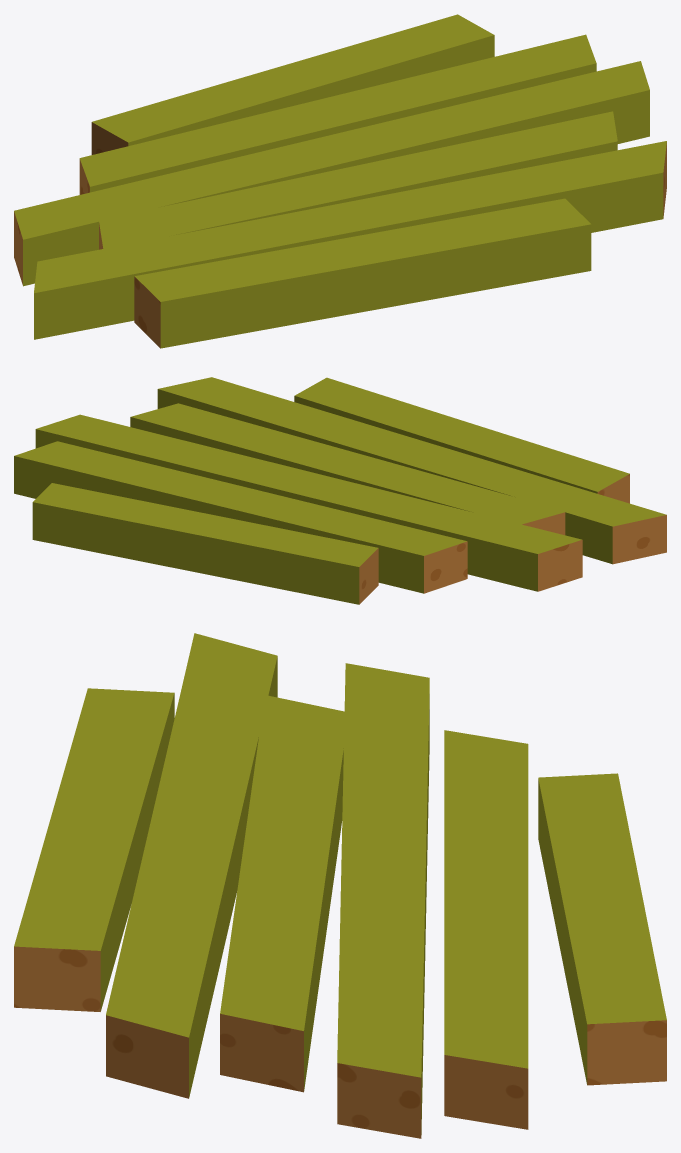
File: PAPA_COCINADA_PRP.fbx
3 views of the same model, one above another, from view 1: azimuth 30°, elevation 25°; view 2: azimuth 150°, elevation 25°; view 3: azimuth 270°, elevation 25° (orthographic). The views are drawn at different scales.
Visible parts, largest first — view 1: PAPA_CORTADO_PRP; view 2: PAPA_CORTADO_PRP; view 3: PAPA_CORTADO_PRP.
Boxes of the visible parts, x1,y1,x2,y2 form: PAPA_CORTADO_PRP: (14, 14, 666, 348); PAPA_CORTADO_PRP: (14, 377, 666, 604); PAPA_CORTADO_PRP: (14, 633, 666, 1138).
Bounding box in the file's own units: 8.87 × 0.5694 × 5.51.
Materials: 2 (1 with a texture image).
